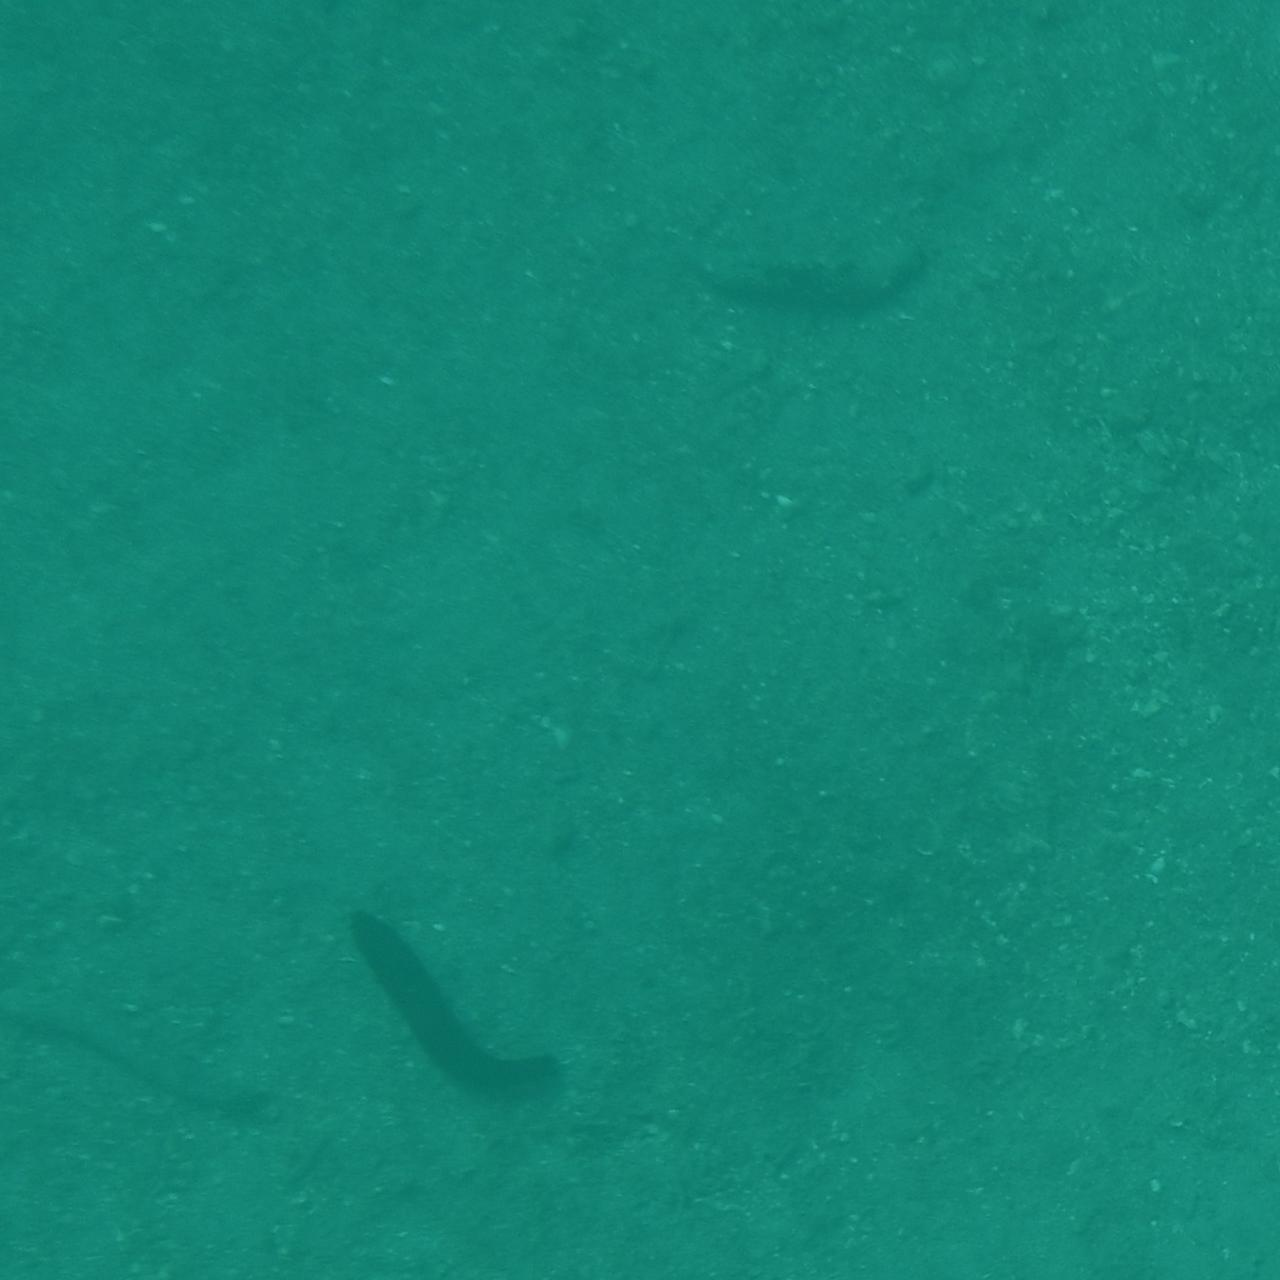Holothuria tubulosa: (354, 900, 590, 1110), (658, 219, 959, 333)
